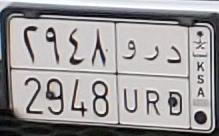2: (22, 24, 44, 116)
4: (68, 27, 89, 118)
8: (91, 27, 110, 119)
9: (45, 26, 65, 116)
D: (166, 45, 184, 116)
R: (143, 45, 161, 115)
U: (121, 39, 139, 113)
